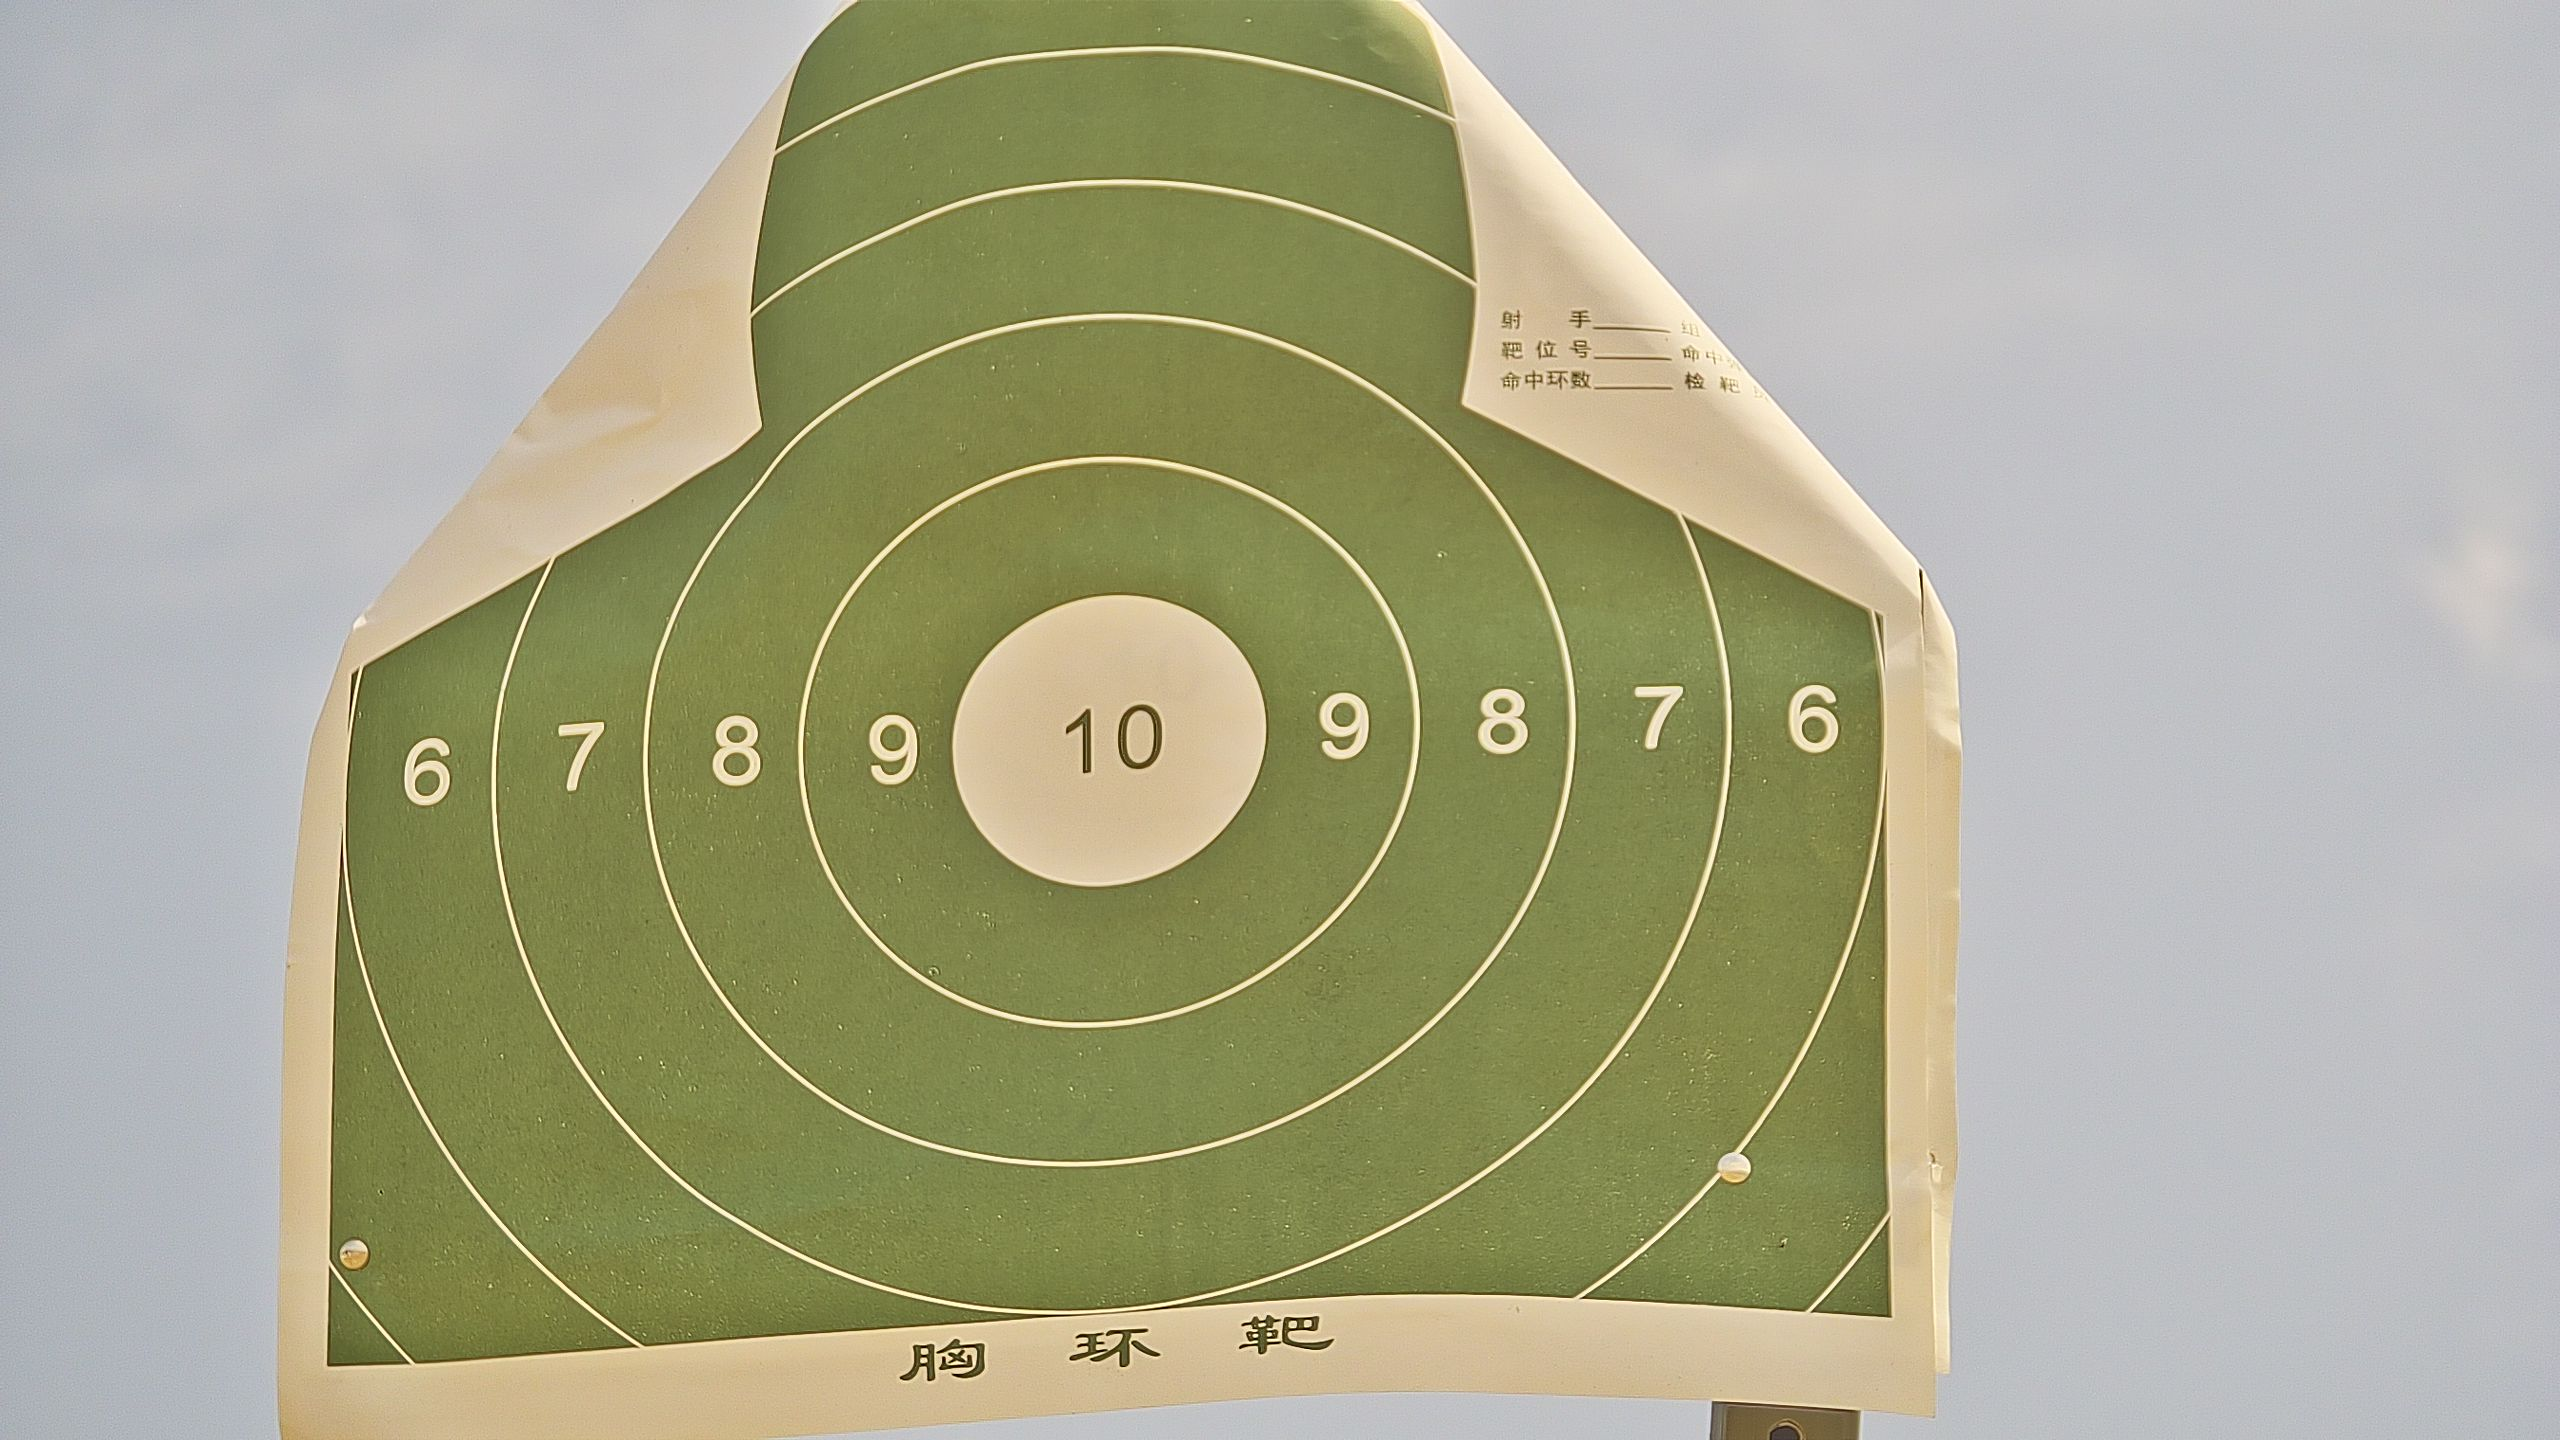target: (320, 5, 1895, 1361)
ten: (951, 591, 1271, 890)
